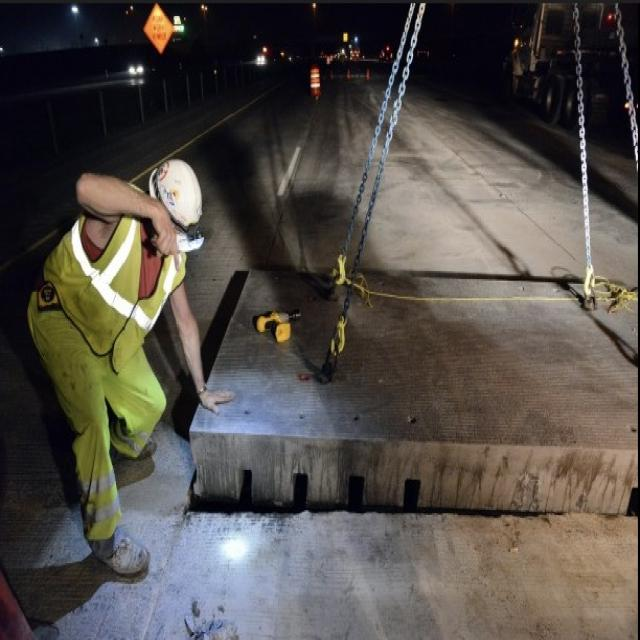boots: (83, 509, 160, 588)
helmet: (145, 155, 211, 250)
no-gloves: (74, 165, 186, 255), (169, 292, 241, 421)
person: (23, 136, 247, 605)
vest: (58, 197, 167, 369)
